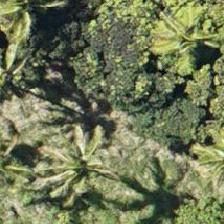coconut_tree: (48, 129, 138, 219), (147, 0, 223, 81), (0, 0, 81, 62), (0, 117, 47, 207)
